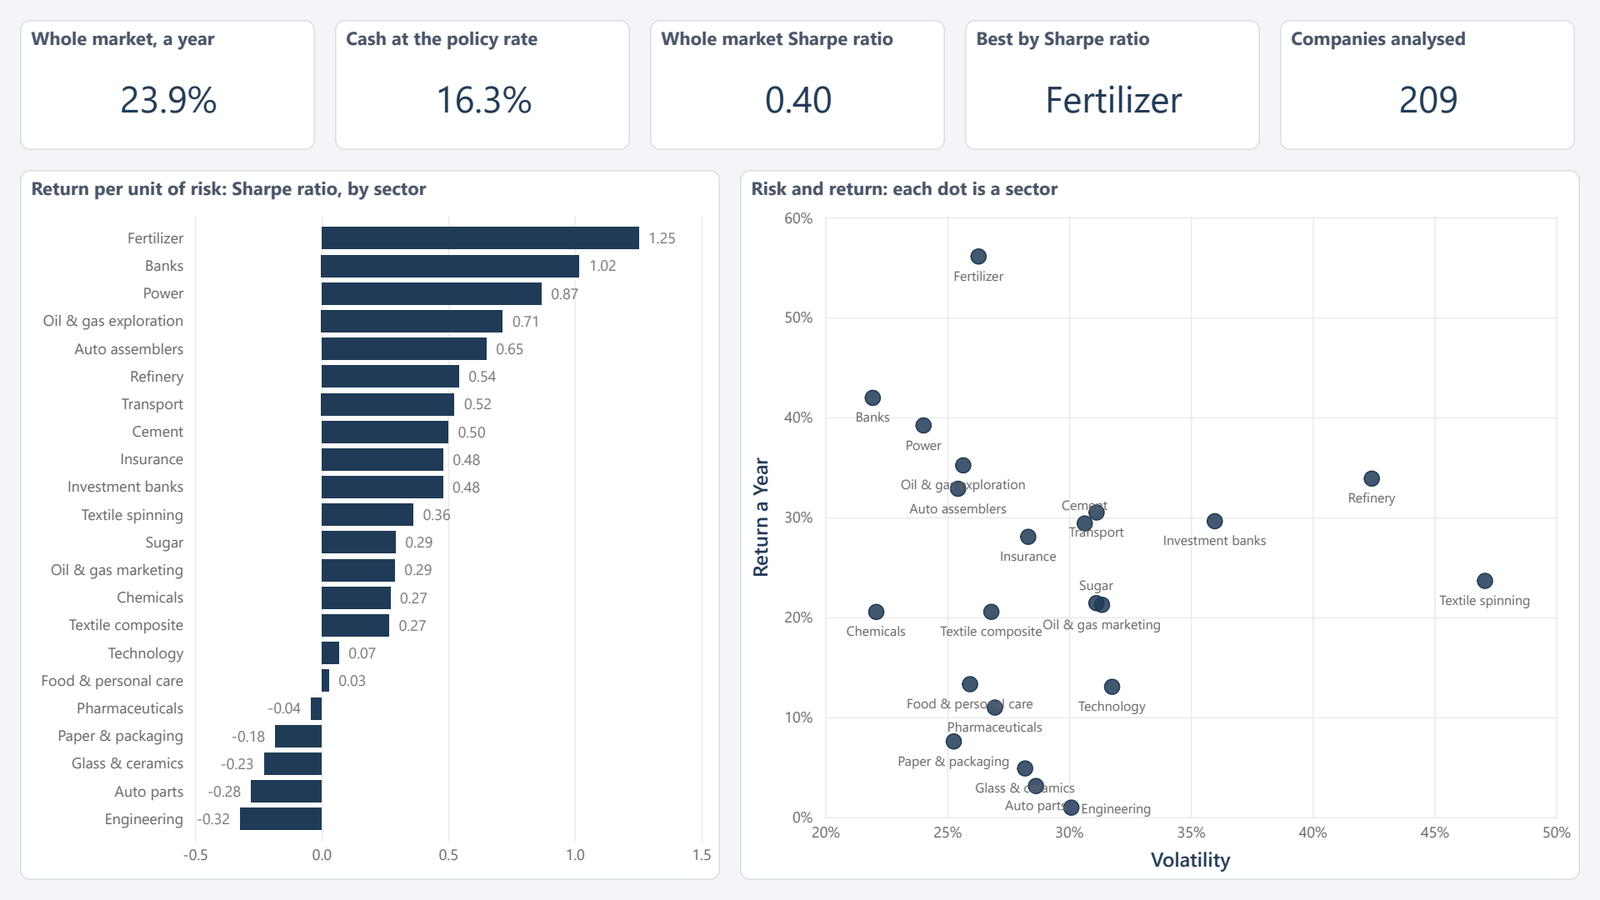

The dashboard page shown, as its layout file describes it:
{"tool":"powerbi","page":{"name":"Overview","canvas":[1280,720],"ordinal":0},"visuals":[{"type":"card","title":"Whole market, a year","fields":{"Values":["_Measures.Market Return a Year"]},"box":[16,16,236,104],"z":0},{"type":"card","title":"Cash at the policy rate","fields":{"Values":["_Measures.Cash Return a Year"]},"box":[268,16,236,104],"z":1000},{"type":"card","title":"Whole market Sharpe ratio","fields":{"Values":["_Measures.Market Sharpe"]},"box":[520,16,236,104],"z":2000},{"type":"card","title":"Best by Sharpe ratio","fields":{"Values":["_Measures.Top Sector by Sharpe"]},"box":[772,16,236,104],"z":3000},{"type":"card","title":"Companies analysed","fields":{"Values":["_Measures.Companies Analysed"]},"box":[1024,16,236,104],"z":4000},{"type":"clusteredBarChart","title":"Return per unit of risk: Sharpe ratio, by sector","fields":{"Category":["sectors.short_name"],"Y":["_Measures.Sharpe Ratio"]},"box":[16,136,560,568],"z":5000},{"type":"scatterChart","title":"Risk and return: each dot is a sector","fields":{"Category":["sectors.short_name"],"X":["_Measures.Volatility"],"Y":["_Measures.Return a Year"]},"box":[592,136,672,568],"z":6000}]}

Visuals, with their boxes in screenshot pixels (x1, y1, x2, y2), scaled from the page's 1280x720 canvas onto the 1600x900 screenshot:
"Whole market, a year" card: box=[20, 20, 315, 150]
"Cash at the policy rate" card: box=[335, 20, 630, 150]
"Whole market Sharpe ratio" card: box=[650, 20, 945, 150]
"Best by Sharpe ratio" card: box=[965, 20, 1260, 150]
"Companies analysed" card: box=[1280, 20, 1575, 150]
"Return per unit of risk: Sharpe ratio, by sector" clusteredBarChart: box=[20, 170, 720, 880]
"Risk and return: each dot is a sector" scatterChart: box=[740, 170, 1580, 880]
